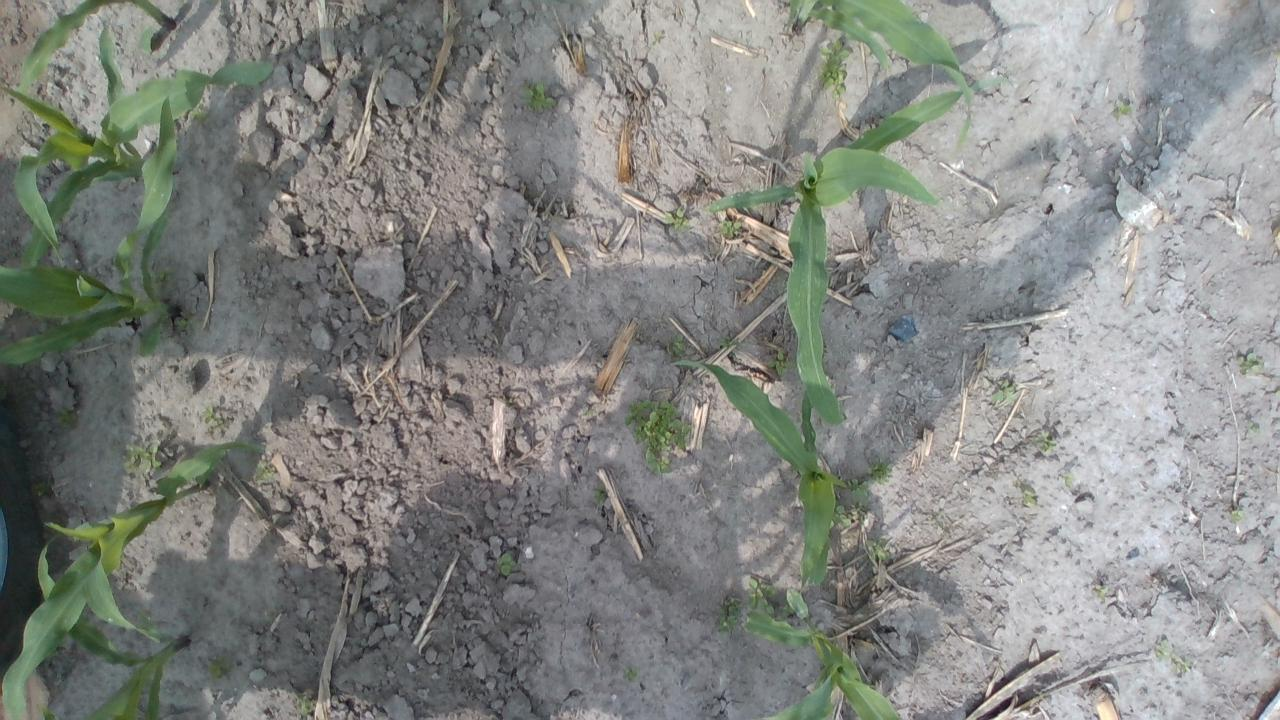Maize: (709, 88, 968, 425), (0, 440, 264, 720), (0, 23, 273, 266), (0, 98, 178, 367), (670, 355, 849, 588), (32, 530, 194, 720), (790, 0, 974, 145), (744, 586, 902, 720), (17, 0, 176, 93)
Weeds: (624, 398, 691, 476), (816, 37, 851, 98), (122, 439, 162, 480), (518, 78, 559, 112), (746, 577, 777, 614), (828, 501, 868, 529), (717, 594, 744, 634), (206, 654, 238, 684), (32, 312, 72, 335), (866, 456, 894, 486), (154, 264, 178, 298), (663, 207, 690, 232), (52, 407, 79, 432), (990, 378, 1016, 403), (865, 536, 890, 562), (767, 351, 793, 376), (200, 404, 224, 430), (1236, 352, 1264, 374), (188, 97, 212, 122), (496, 552, 518, 576), (177, 313, 200, 334), (254, 460, 276, 481), (846, 478, 870, 497), (717, 220, 742, 236), (1021, 486, 1039, 507), (1038, 429, 1056, 450), (672, 333, 688, 356), (294, 694, 312, 713), (594, 483, 608, 504), (718, 335, 738, 349), (780, 598, 794, 617), (623, 666, 640, 681), (1177, 657, 1193, 672), (1156, 641, 1168, 658), (1246, 422, 1262, 434), (1116, 103, 1132, 115), (1060, 472, 1072, 484), (1232, 510, 1245, 521), (1097, 588, 1106, 598)
